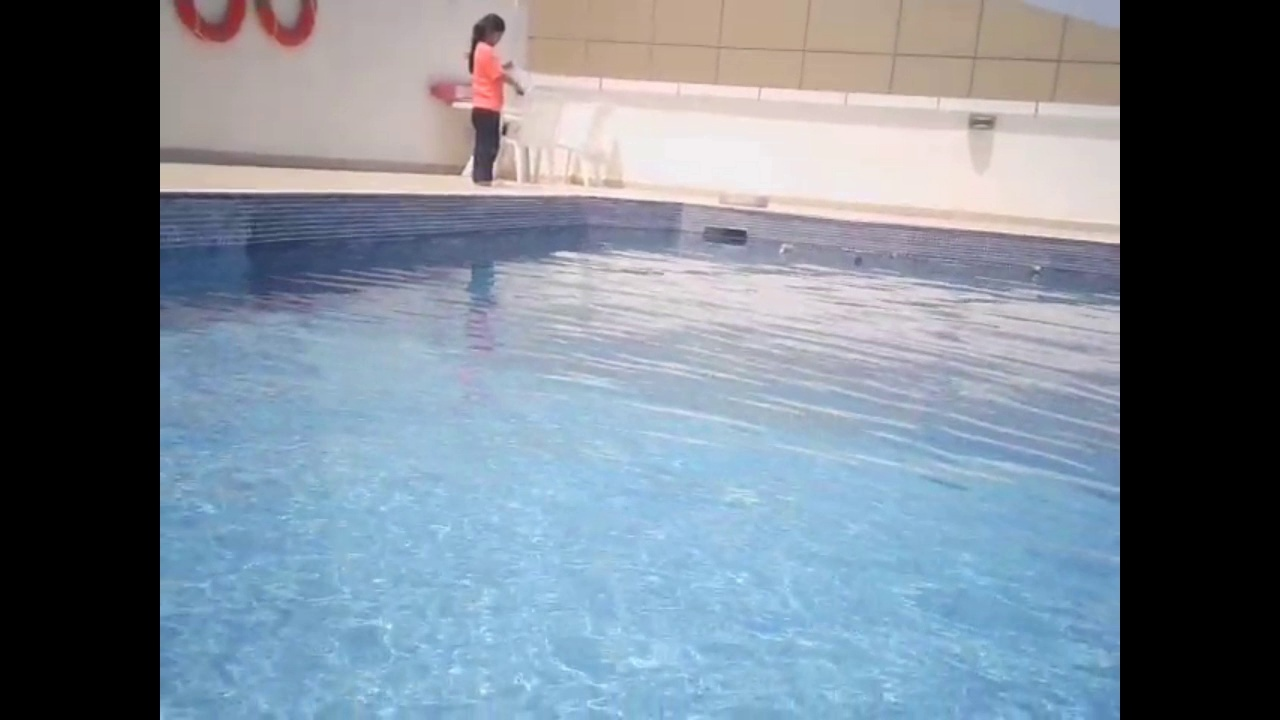debris: (774, 237, 794, 257), (1028, 258, 1045, 274)
